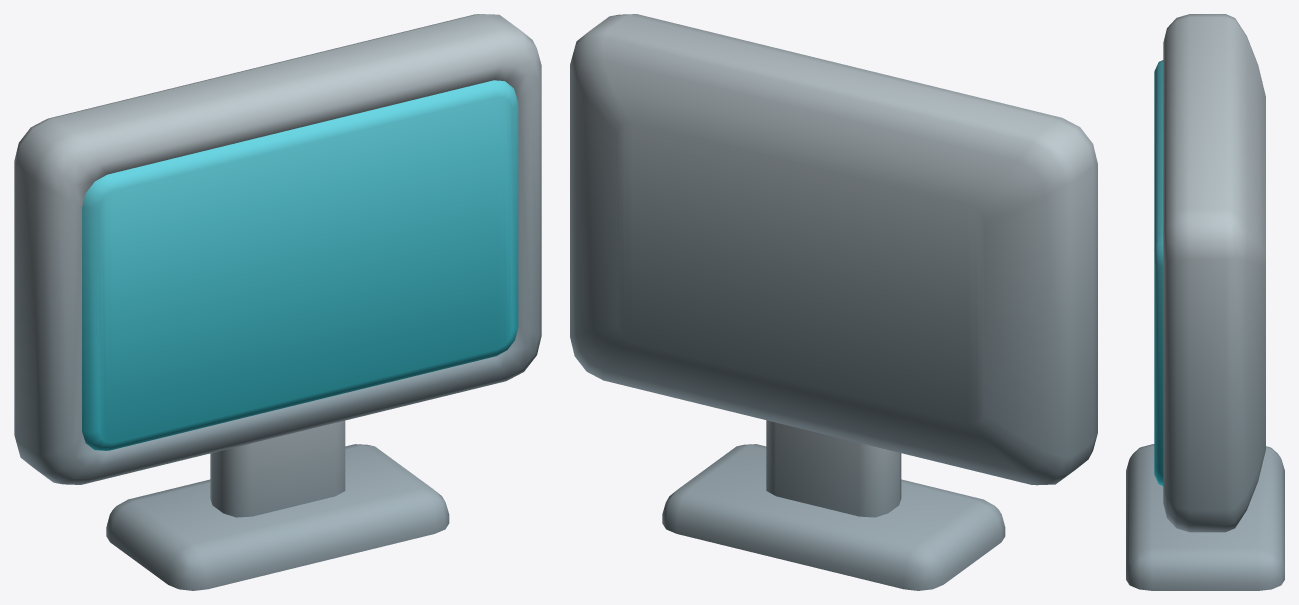
File: Computer_01.glb
3 renders of one model, left to right at view 1: azimuth 30°, elevation 25°; view 2: azimuth 150°, elevation 25°; view 3: azimuth 270°, elevation 25°, orthographic. The views are drawn at different scales.
Parts seen in each view (by area): view 1: Computer_01; view 2: Computer_01; view 3: Computer_01.
Part boxes in pixels (box(x1,y1,x2,y2)): Computer_01: box(14, 14, 541, 590); Computer_01: box(570, 14, 1097, 590); Computer_01: box(1126, 14, 1284, 590).
Bounding box in the file's own units: 0.6 × 0.52 × 0.18.
1 material, 1 textured.
